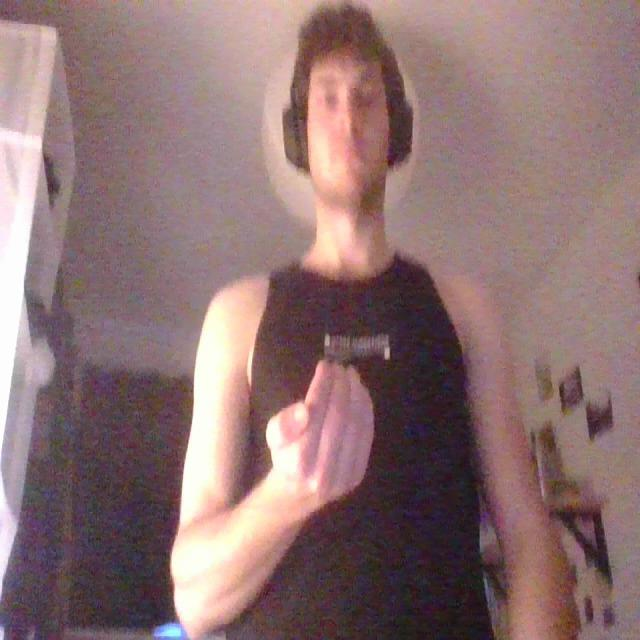forward: (265, 356, 377, 514)
